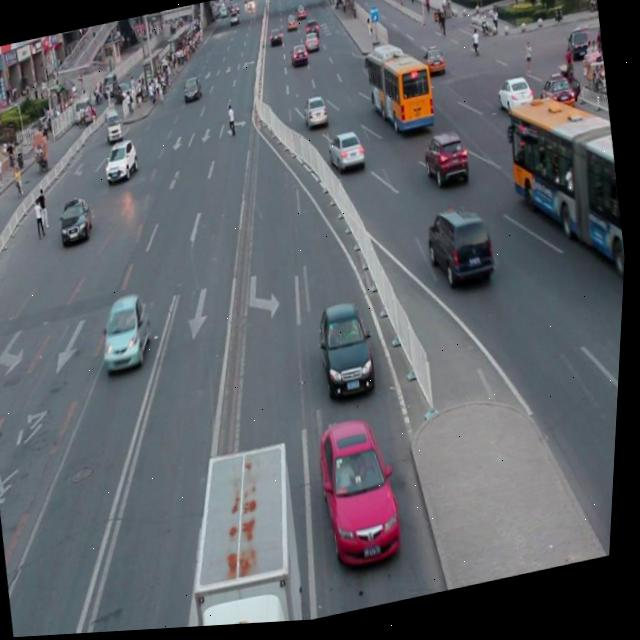bus: (177, 442, 319, 631)
car: (315, 414, 414, 576), (315, 301, 384, 409), (425, 206, 502, 299), (97, 292, 161, 376), (421, 132, 474, 195), (58, 195, 99, 249), (327, 132, 369, 179), (537, 76, 577, 122), (496, 79, 536, 123)
van: (499, 91, 635, 306), (361, 43, 439, 143)
